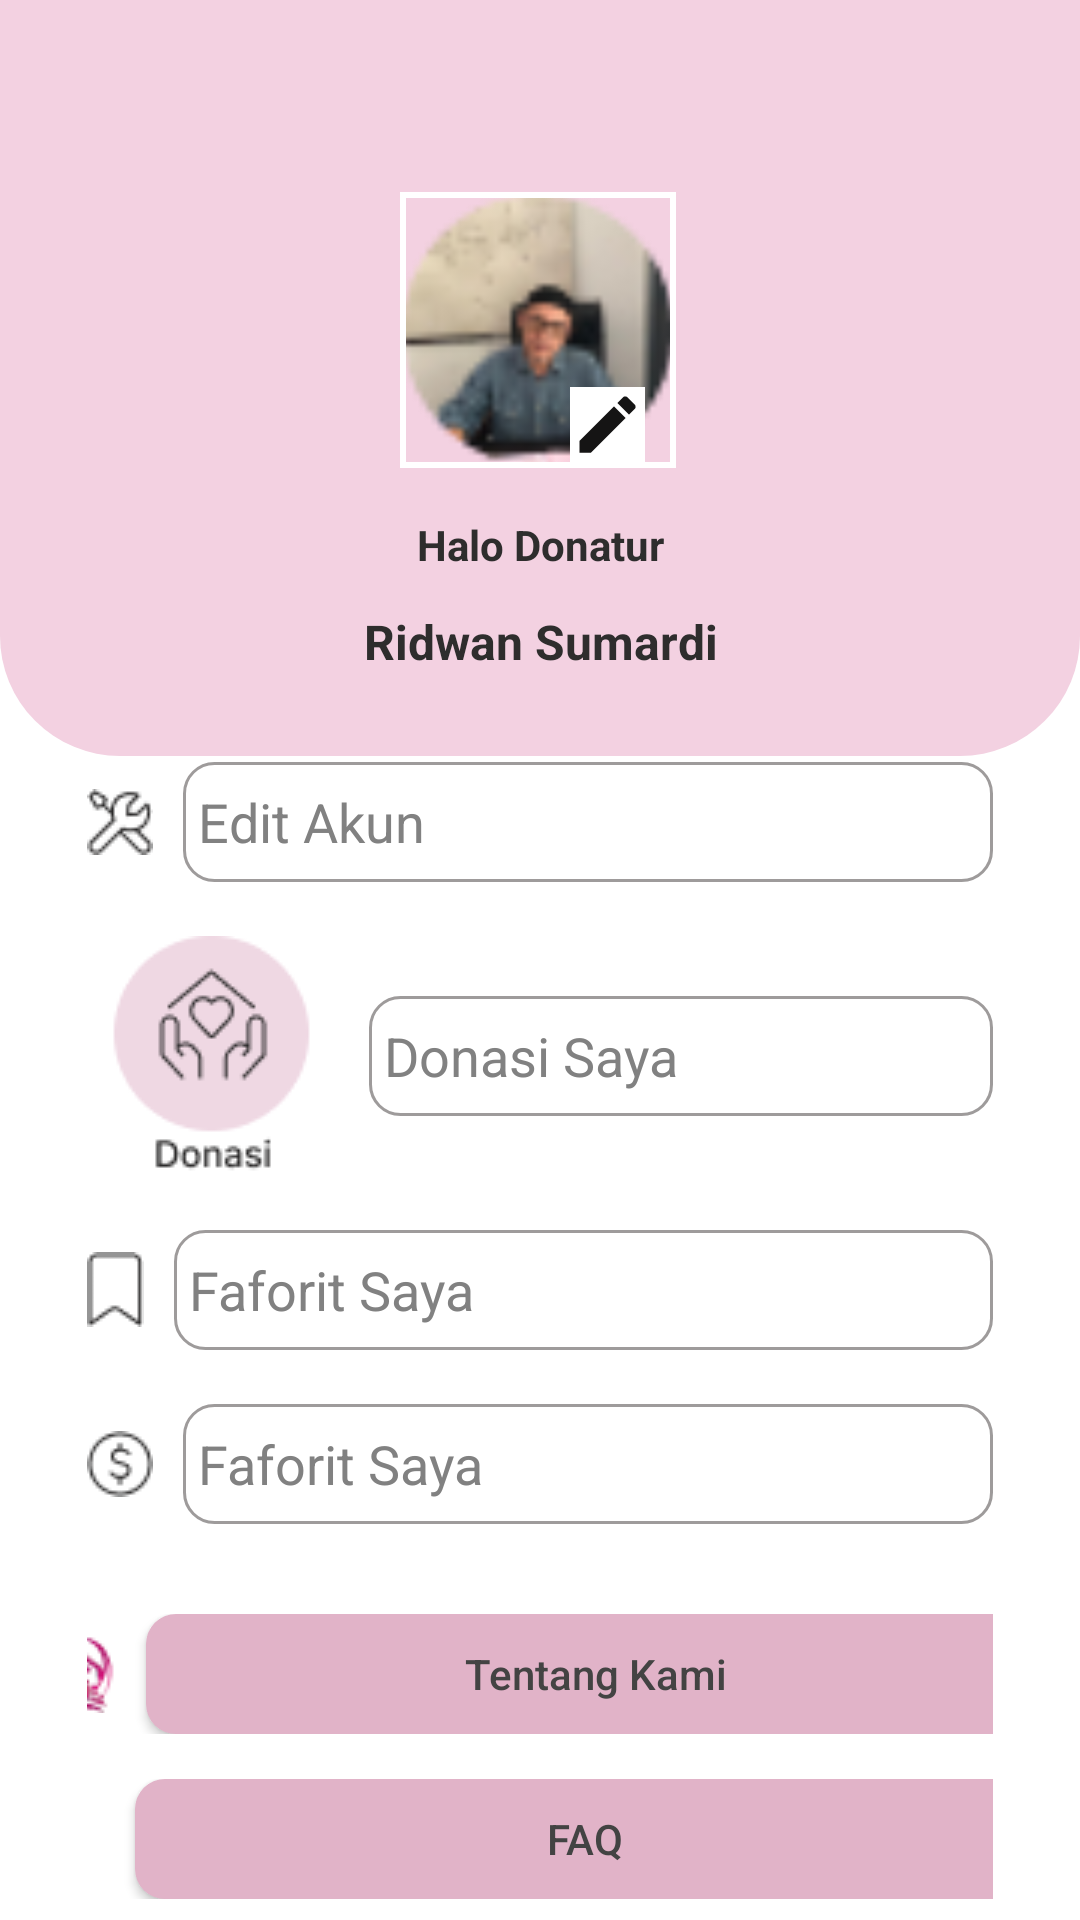

Where to tap for icons on this 1080w x 1920h app screen, as point (x, y):
saldo: point (120, 1464)
